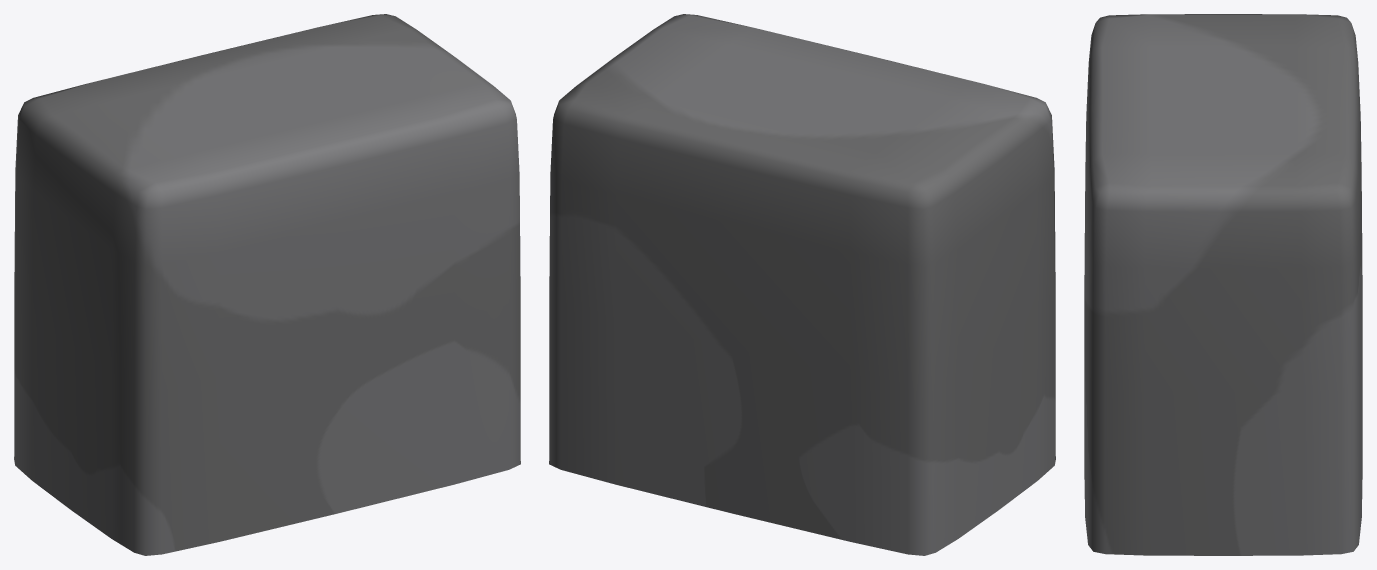
Rendered from door.fbx.
3 renders of one model, left to right at view 1: azimuth 30°, elevation 25°; view 2: azimuth 150°, elevation 25°; view 3: azimuth 270°, elevation 25°, orthographic.
Parts seen in each view (by area): view 1: door; view 2: door; view 3: door.
Part boxes in pixels (x1=…): door: x1=14, y1=14, x2=520, y2=555; door: x1=549, y1=14, x2=1055, y2=555; door: x1=1084, y1=14, x2=1362, y2=555.
Bounding box in the file's own units: 1.18 × 1.04 × 0.7275.
